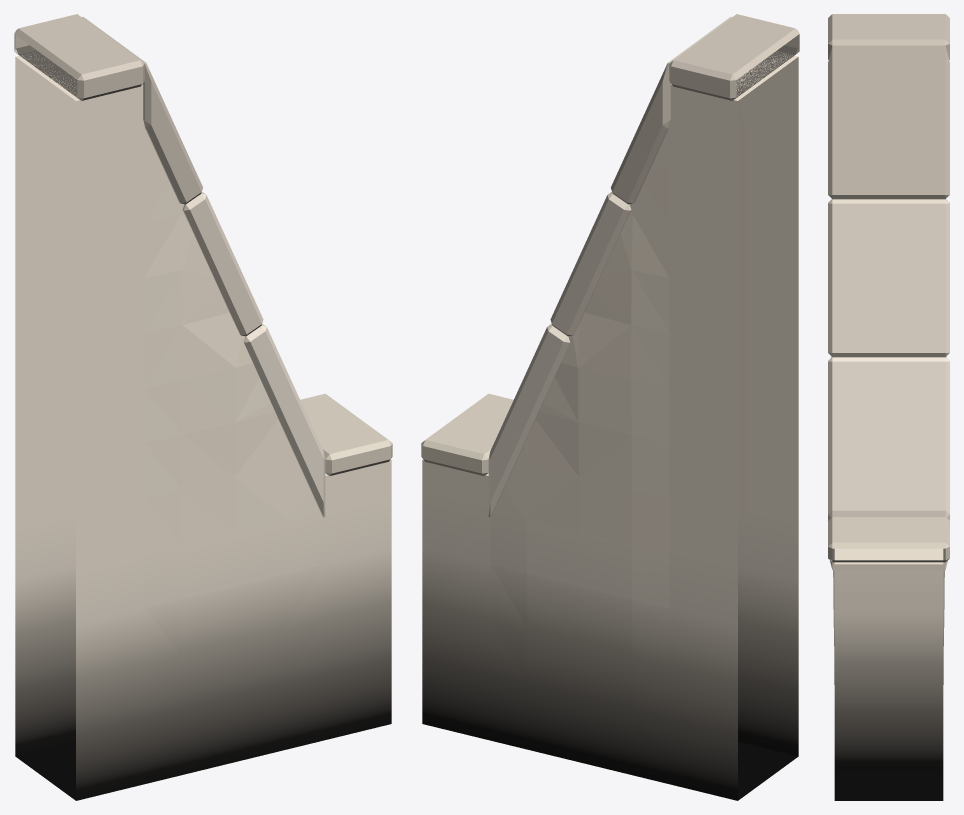
File: SM_VKI_Wall_Stone_Rake_150_R.fbx
3 renders of one model, left to right at view 1: azimuth 30°, elevation 25°; view 2: azimuth 150°, elevation 25°; view 3: azimuth 270°, elevation 25°, orthographic. The views are drawn at different scales.
Visible parts, largest first — view 1: SM_VKI_Wall_Stone_Rake_150_R.001; view 2: SM_VKI_Wall_Stone_Rake_150_R.001; view 3: SM_VKI_Wall_Stone_Rake_150_R.001.
Boxes of the visible parts, x1,y1,x2,y2 form: SM_VKI_Wall_Stone_Rake_150_R.001: [14, 14, 392, 800]; SM_VKI_Wall_Stone_Rake_150_R.001: [421, 14, 799, 800]; SM_VKI_Wall_Stone_Rake_150_R.001: [828, 14, 949, 800].
Bounding box in the file's own units: 1.5 × 3.3 × 0.56.
